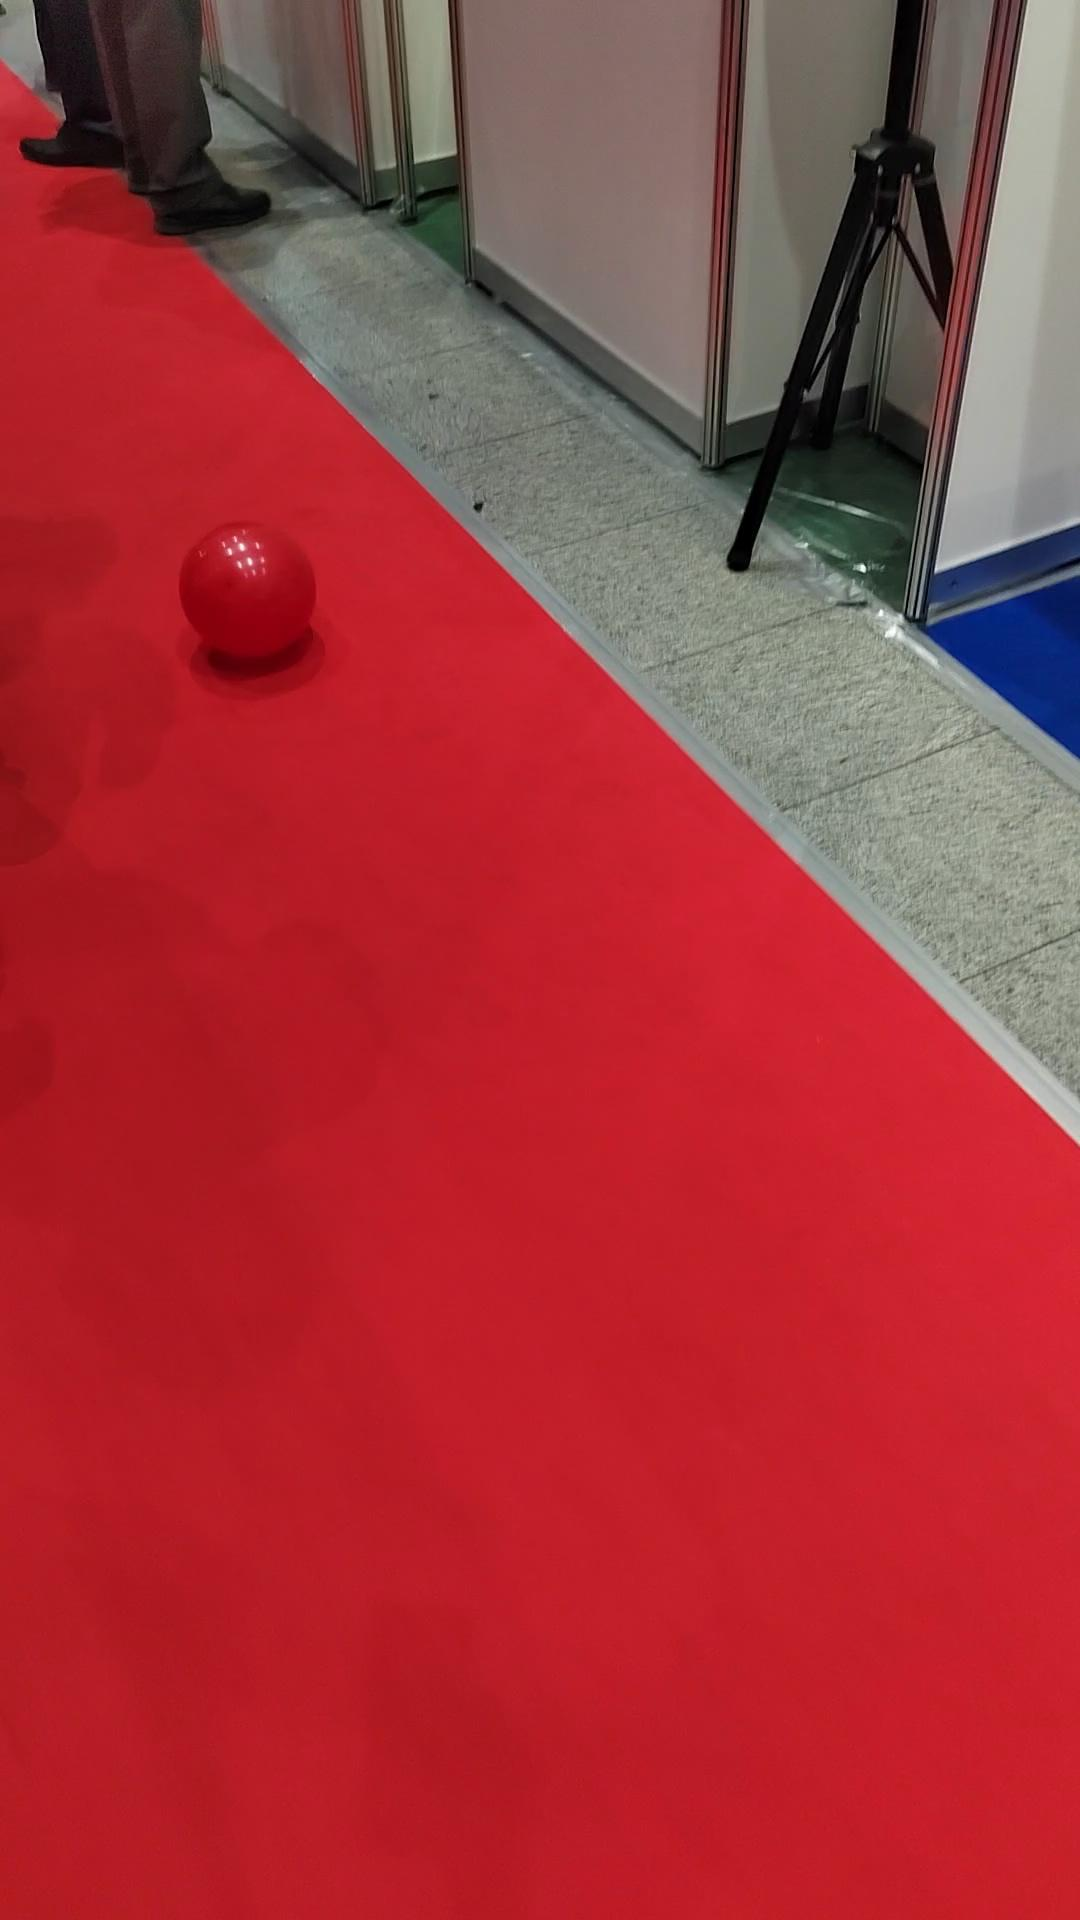red: (178, 521, 316, 659)
